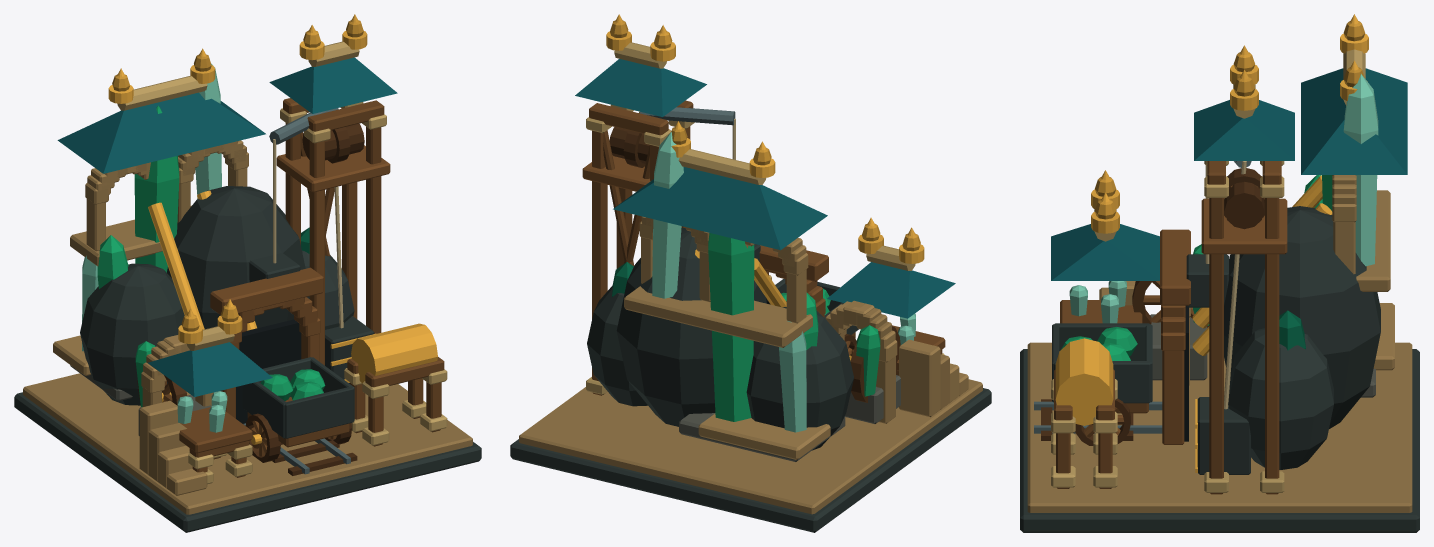
3 renders of one model, left to right at view 1: azimuth 30°, elevation 25°; view 2: azimuth 150°, elevation 25°; view 3: azimuth 270°, elevation 25°, orthographic. The views are drawn at different scales.
Parts seen in each view (by area): view 1: gem_mine_15_structure, gem_mine_15_metal; view 2: gem_mine_15_structure, gem_mine_15_metal; view 3: gem_mine_15_structure, gem_mine_15_metal.
Part boxes in pixels (left/top/right/bottom): gem_mine_15_structure: left=14, top=20, right=481, bottom=532; gem_mine_15_metal: left=108, top=14, right=437, bottom=444; gem_mine_15_structure: left=510, top=20, right=991, bottom=532; gem_mine_15_metal: left=606, top=14, right=924, bottom=360; gem_mine_15_structure: left=1020, top=21, right=1419, bottom=532; gem_mine_15_metal: left=1055, top=14, right=1368, bottom=472.
Bounding box in the file's own units: 3.6 × 4.44 × 3.6.
